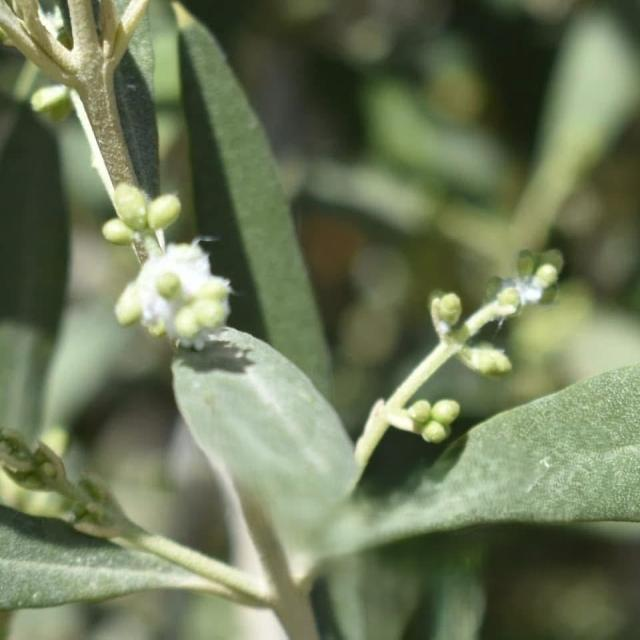Psyllid: (115, 238, 234, 350), (469, 249, 564, 328)
